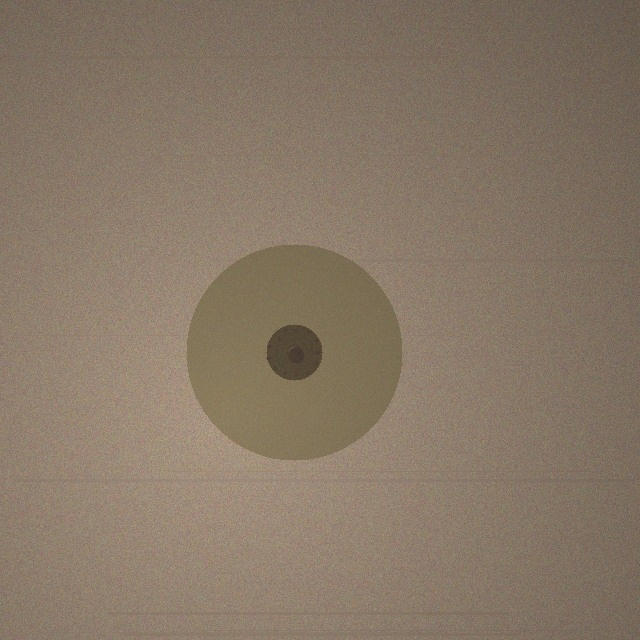cold_weld: (186, 244, 402, 460)
